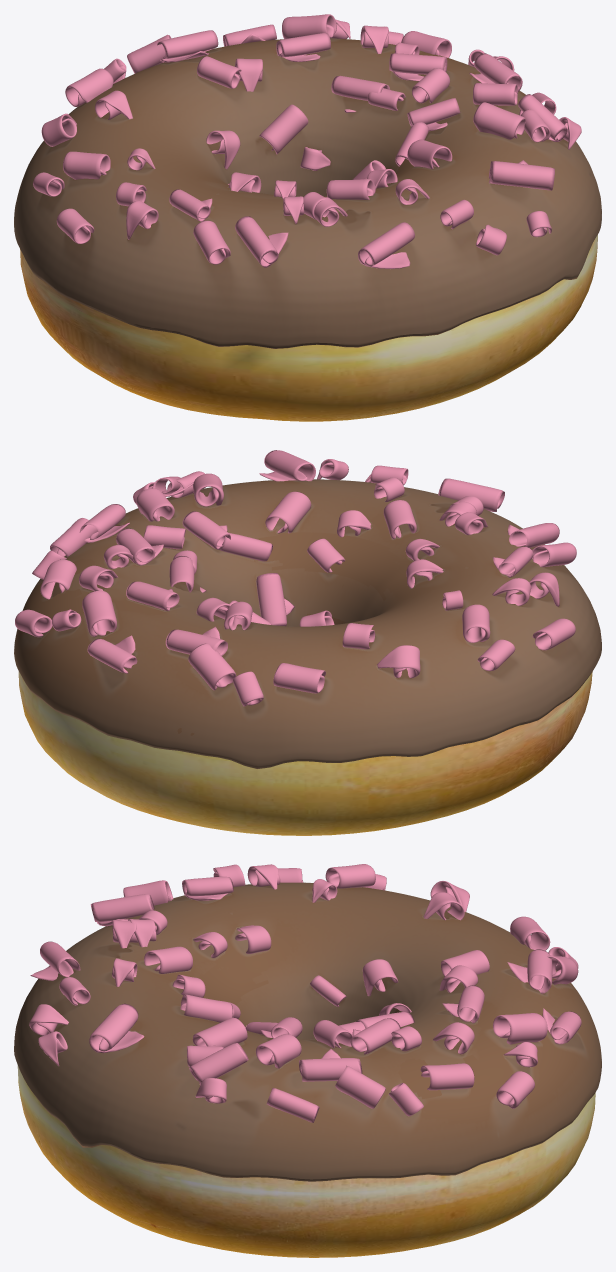
The model's file is coffee strawberry curls.glb.
The picture shows the model from 3 angles, top to bottom: view 1: azimuth 30°, elevation 25°; view 2: azimuth 150°, elevation 25°; view 3: azimuth 270°, elevation 25°; orthographic projection. The views are drawn at different scales.
Visible parts, largest first — view 1: coffee.001, coffee, choco & straw curls, Torus; view 2: coffee, coffee.001, choco & straw curls, Torus; view 3: coffee, coffee.001, choco & straw curls, Torus.
Boxes of the visible parts, <box> form: coffee.001: <box>14,38,601,348</box>; coffee: <box>14,38,601,348</box>; choco & straw curls: <box>33,14,581,269</box>; Torus: <box>20,234,597,421</box>; coffee: <box>14,479,596,768</box>; coffee.001: <box>14,479,601,768</box>; choco & straw curls: <box>15,450,576,706</box>; Torus: <box>18,671,592,835</box>; coffee: <box>15,882,601,1181</box>; coffee.001: <box>14,882,601,1181</box>; choco & straw curls: <box>29,864,581,1122</box>; Torus: <box>17,1065,595,1257</box>.
Bounding box in the file's own units: 0.1996 × 0.0804 × 0.1979.
4 materials, 2 textured.
